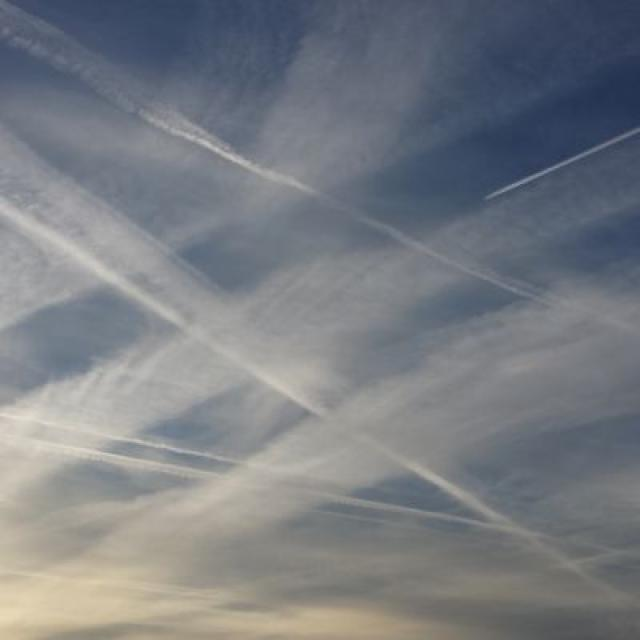Ct: (1, 32, 640, 501)
